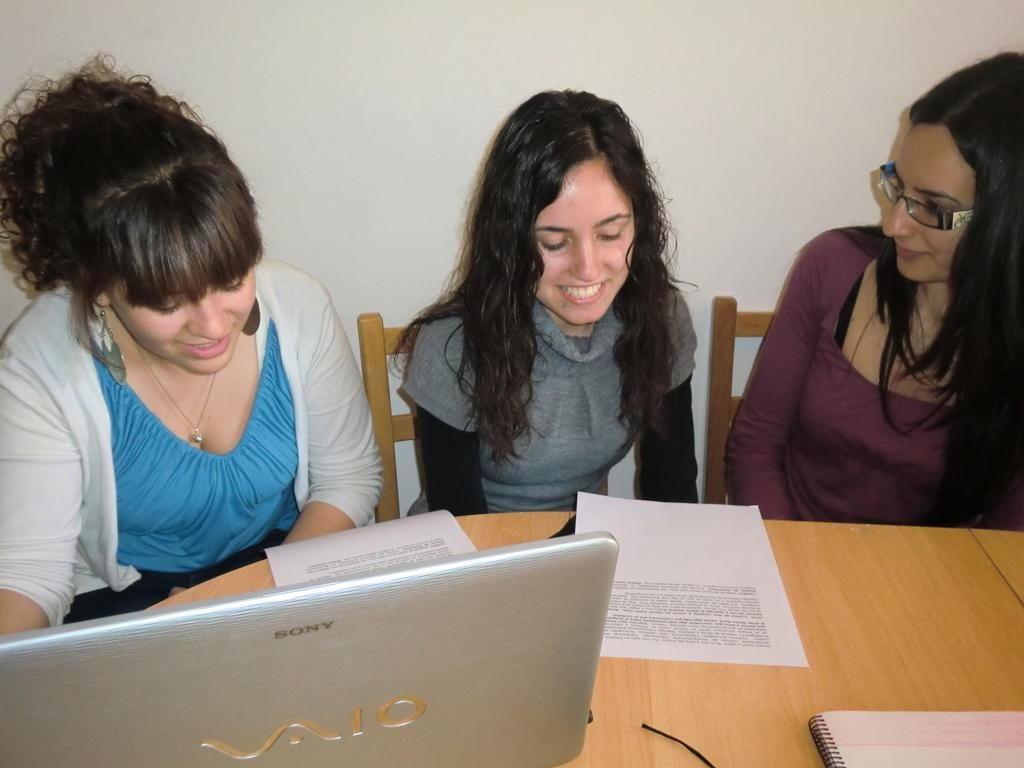Chair: (356, 311, 607, 546)
Laptop: (0, 529, 619, 767)
